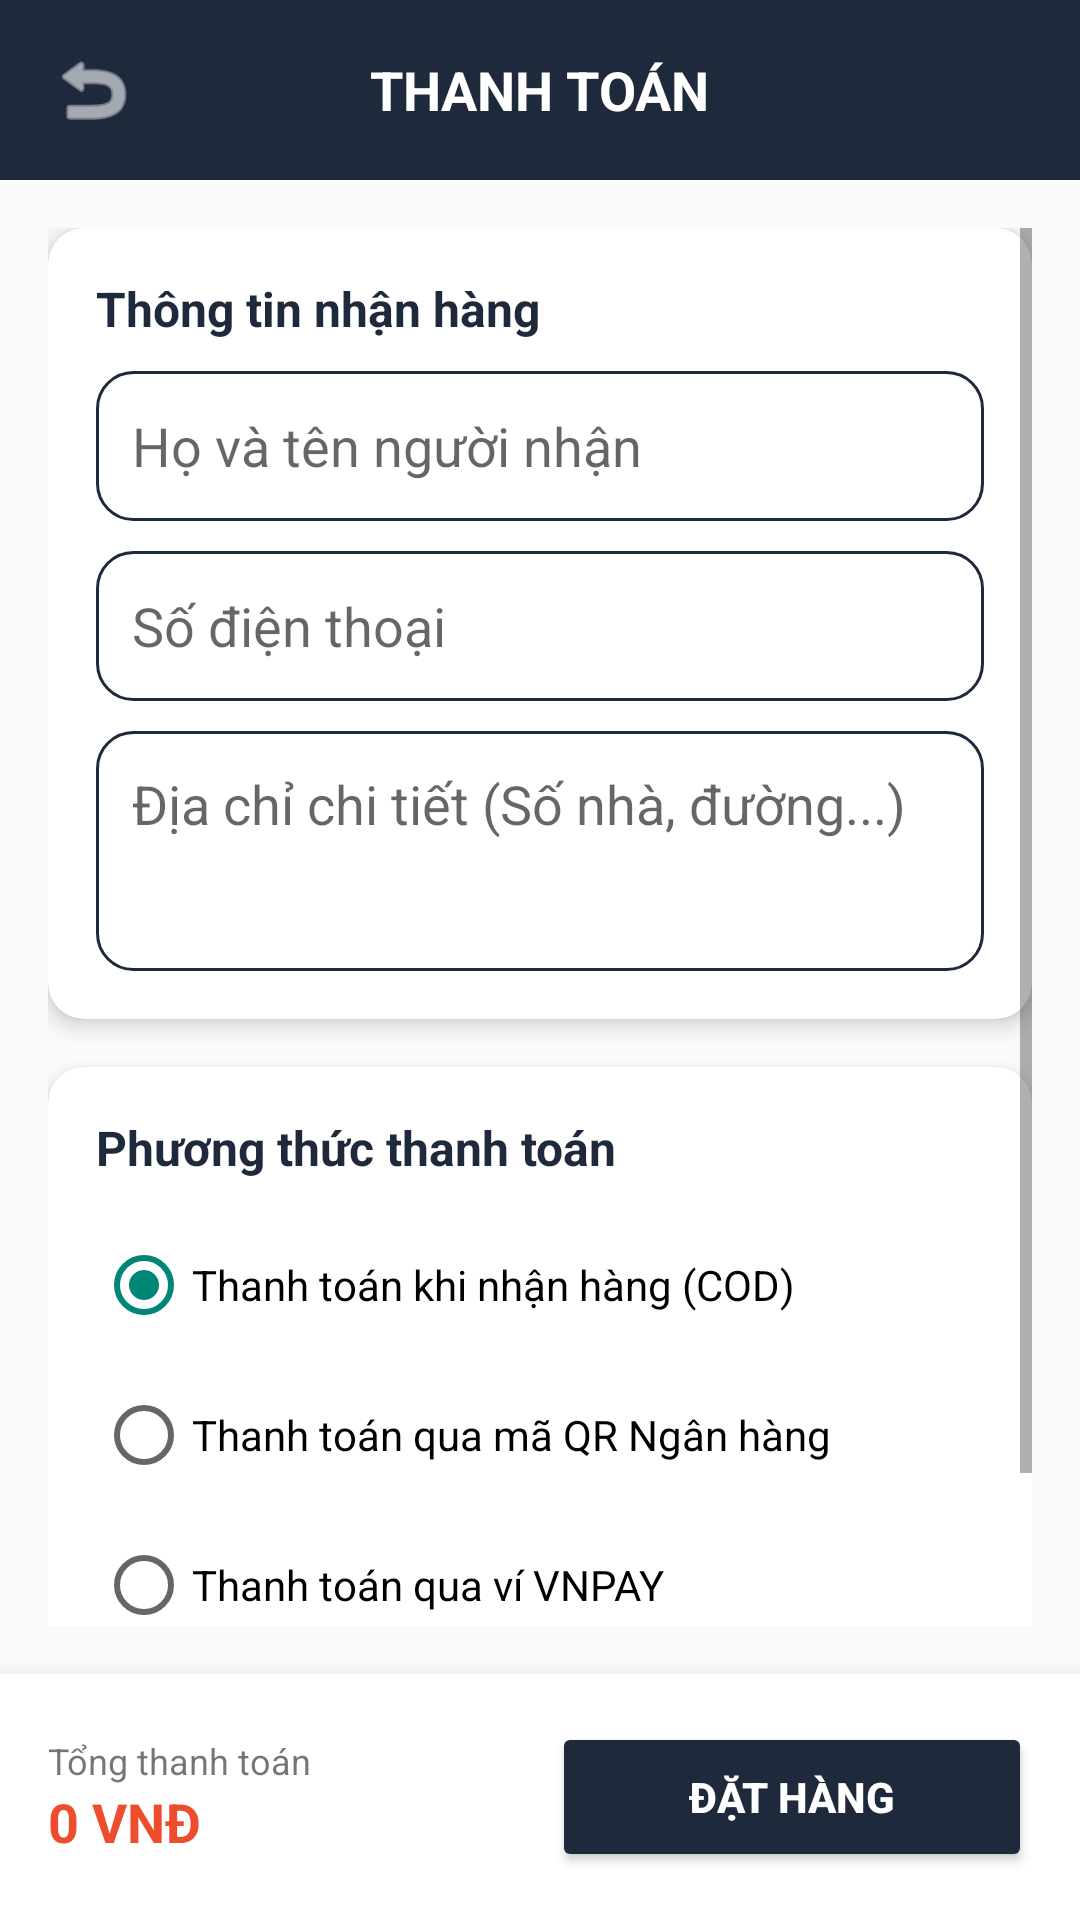

Where icons sit on this 1080*1920 app screen, as {"x1": x1, "y1": y1, "x2": x2, "y2": y2}:
revert: {"x1": 62, "y1": 61, "x2": 127, "y2": 120}
